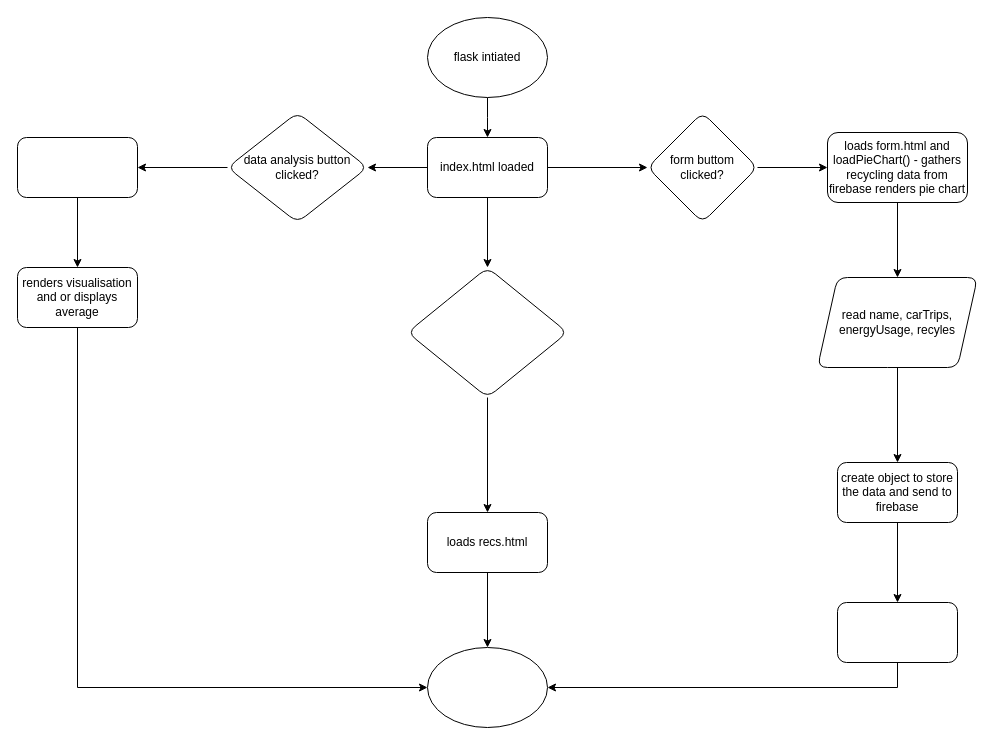
Some shapes in this 995 by 745 pixel diagram are drawn without their labels. The shapes that lost their labels are listed below. From the top down, each one's centre as x and y in pixels, then its label:
At point (77, 167): "load dataset".
At point (487, 332): "recommendations button clicked?".
At point (897, 632): "loadPieChart()".
At point (487, 687): "Stop".
